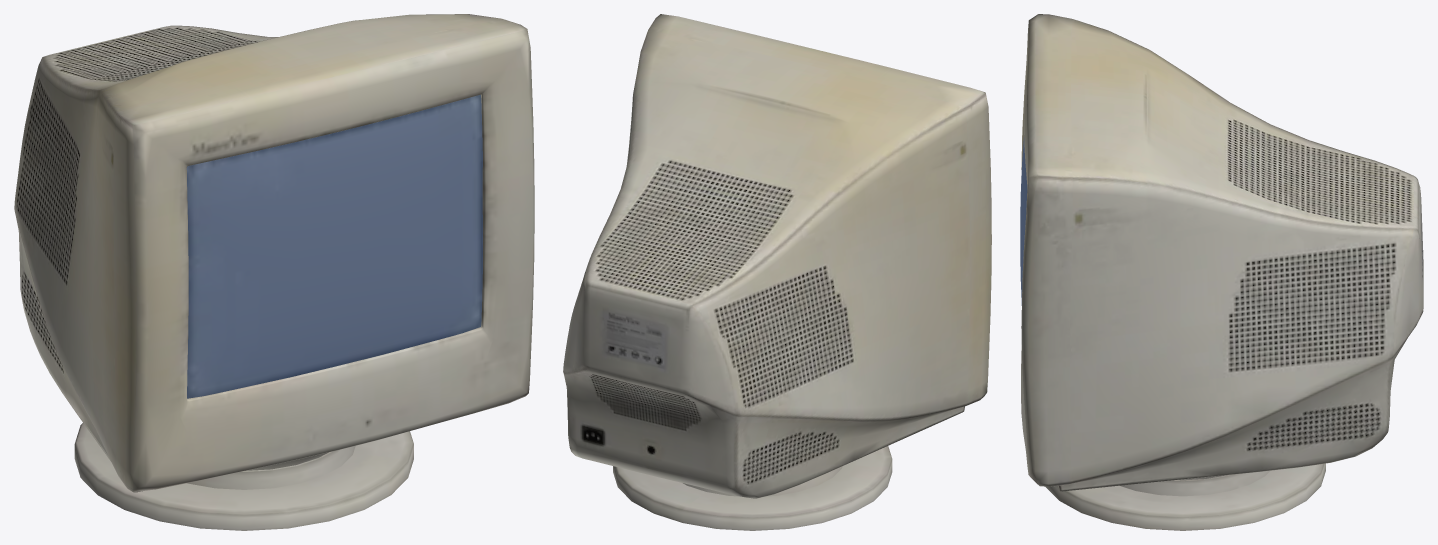
File: crt_monitor.glb
3 renders of one model, left to right at view 1: azimuth 30°, elevation 25°; view 2: azimuth 150°, elevation 25°; view 3: azimuth 270°, elevation 25°, orthographic. The views are drawn at different scales.
Parts seen in each view (by area): view 1: CRT_Monitor_monitor_plastic_0, CRT_Monitor_monitor_glass_0; view 2: CRT_Monitor_monitor_plastic_0; view 3: CRT_Monitor_monitor_plastic_0, CRT_Monitor_monitor_glass_0.
Boxes of the visible parts, bbox=[...] form: CRT_Monitor_monitor_plastic_0: bbox=[14, 14, 534, 530]; CRT_Monitor_monitor_glass_0: bbox=[186, 94, 482, 398]; CRT_Monitor_monitor_plastic_0: bbox=[563, 14, 991, 530]; CRT_Monitor_monitor_plastic_0: bbox=[1021, 14, 1423, 530]; CRT_Monitor_monitor_glass_0: bbox=[1020, 137, 1027, 305].
Bounding box in the file's own units: 0.4059 × 0.433 × 0.4201.
Materials: 2 (2 with a texture image).
